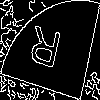R: (25, 25, 64, 79)
